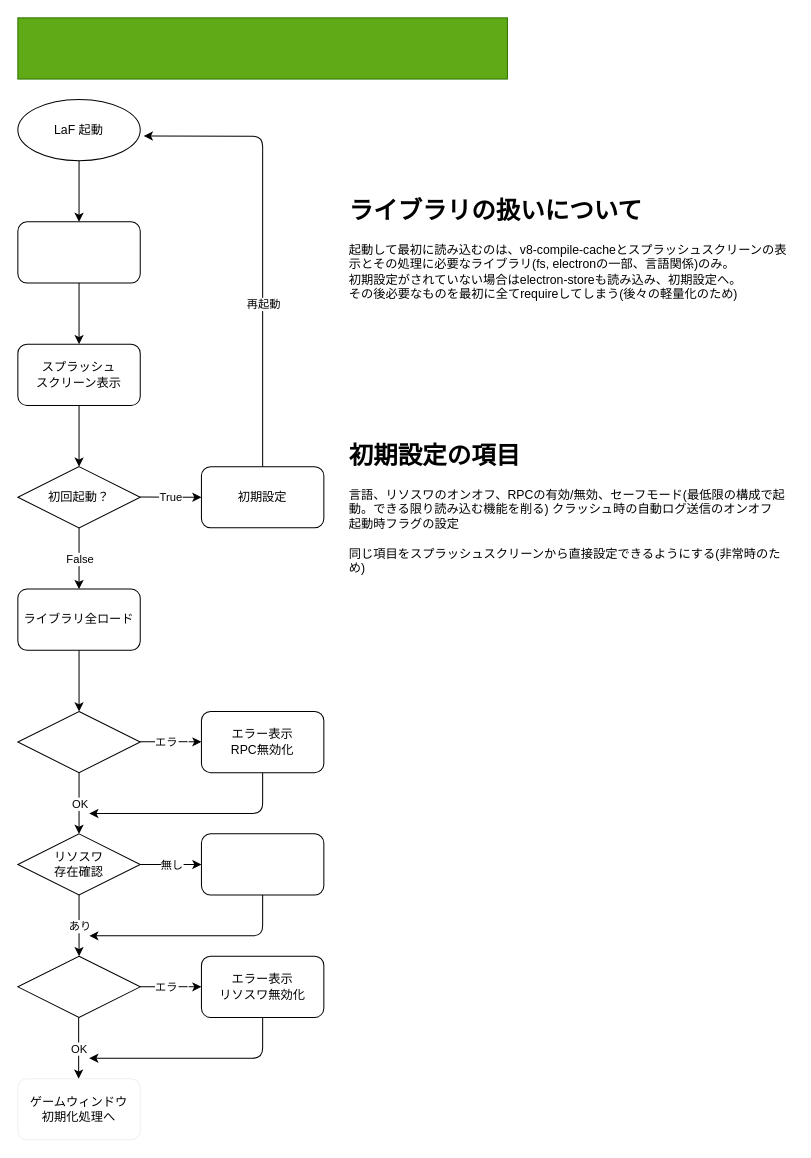
Image size: 811x1158. Some labels were removed from this diagram. Here are the shapes that lost their labels. From the top down, the box of each, then its label:
(17, 17, 507, 79): LaF 2.0 起動処理
(17, 221, 140, 283): 最低限の ライブラリをロード
(17, 710, 140, 773): DiscordRPC 接続確認
(200, 833, 324, 895): フォルダ作成 (Document/LaFSwap)
(17, 955, 140, 1017): リソスワ登録処理
